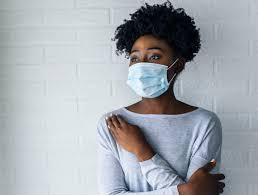Wearing Mask: (113, 3, 204, 104)
